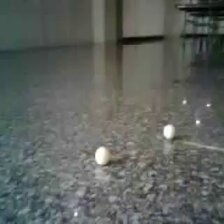w: (93, 147, 111, 165), (162, 124, 176, 139)
